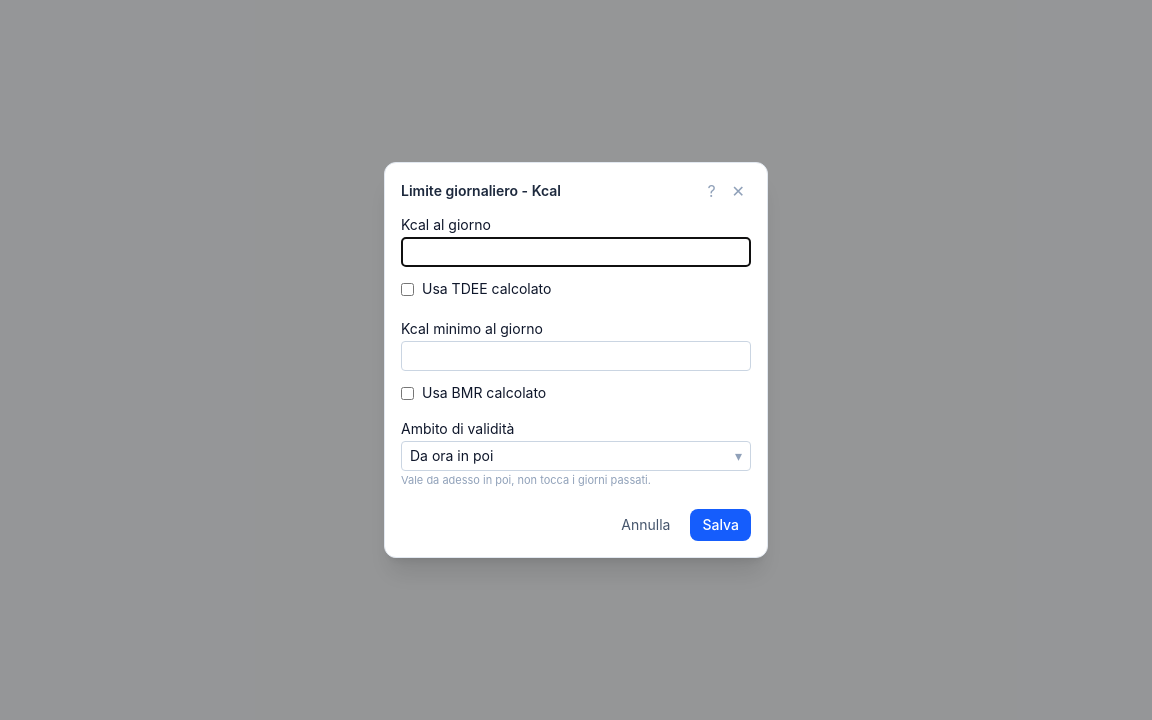
Test: ObiettivoGiornalieroModal - tipo kcal › ObiettivoGiornalieroModal_profiloEPesoDisponibili_spuntareUsaTDEEPrecompilaKcalConIlValoreCalcolato
Expected: the text "Ambito di validità" is shown, [401, 420, 514, 437]
Click the checkbox labelled "Usa TDEE calcolato" at [408, 289], box [401, 283, 414, 296]
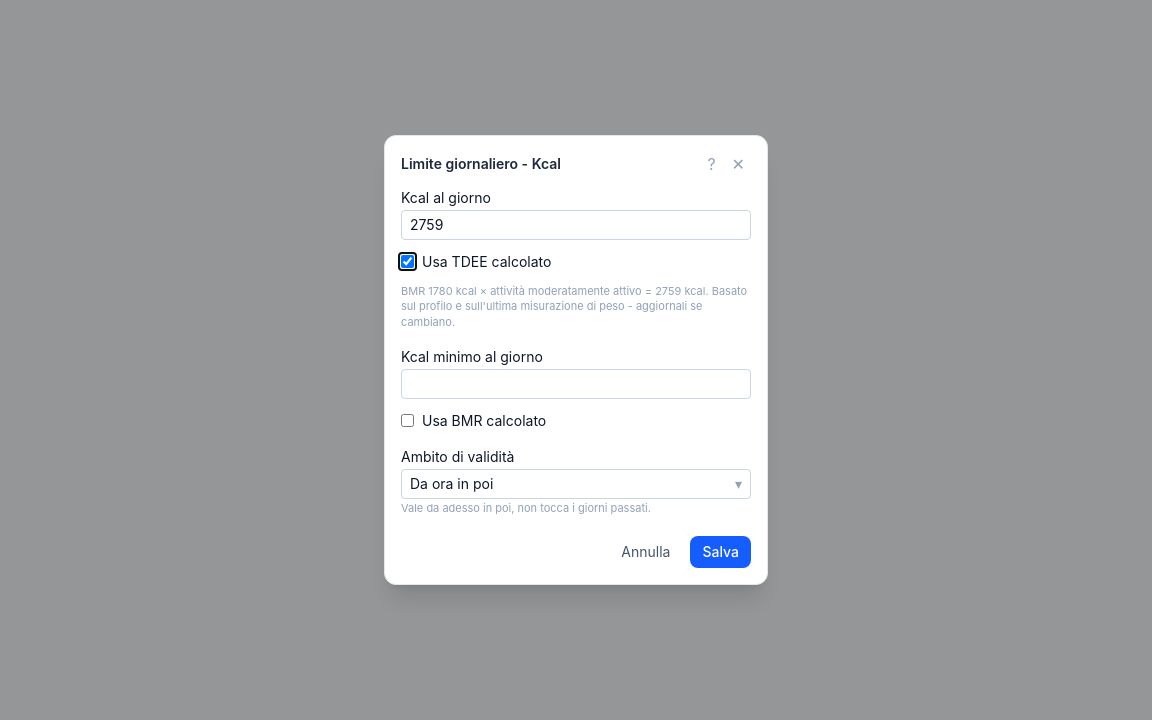
Expected: the number field labelled "Kcal al giorno" holds "2759", [401, 210, 751, 240]
